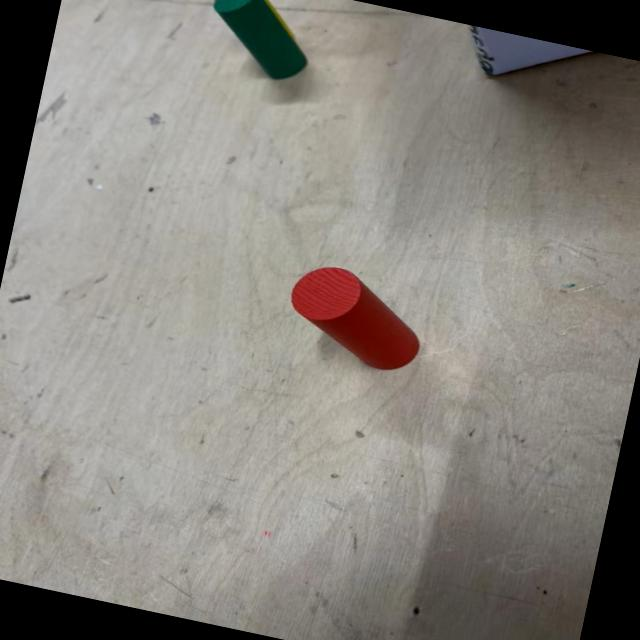red_cylinder: (277, 256, 432, 378)
